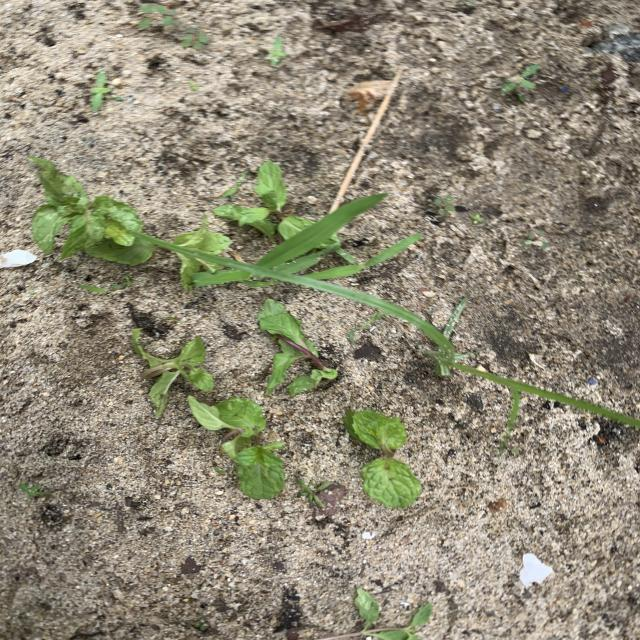crop: (29, 158, 155, 265), (187, 396, 285, 499), (213, 161, 313, 240), (258, 299, 338, 397), (344, 409, 421, 508), (132, 328, 214, 417), (321, 588, 433, 640), (173, 218, 232, 255), (177, 251, 221, 290), (287, 627, 301, 640)
weed: (356, 293, 640, 428), (256, 193, 414, 282), (270, 241, 407, 280), (505, 398, 520, 437), (239, 275, 279, 289), (204, 271, 244, 285), (248, 241, 255, 247)
